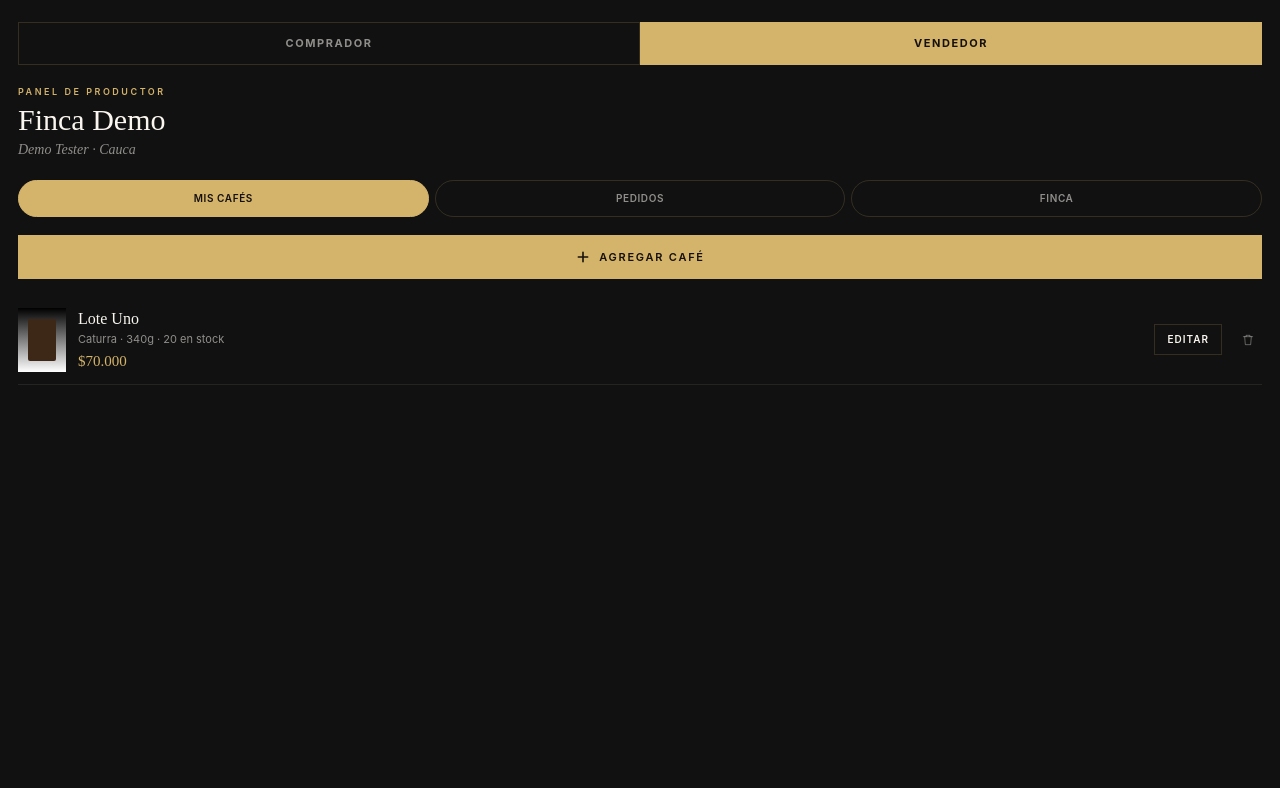
Test case: ProfileScreen › la pestaña Pedidos muestra el resumen de ventas
The width and height of the screenshot is (1280, 788).
Click the button "Pedidos".
click(640, 198)  # box left=435, top=180, right=845, bottom=216
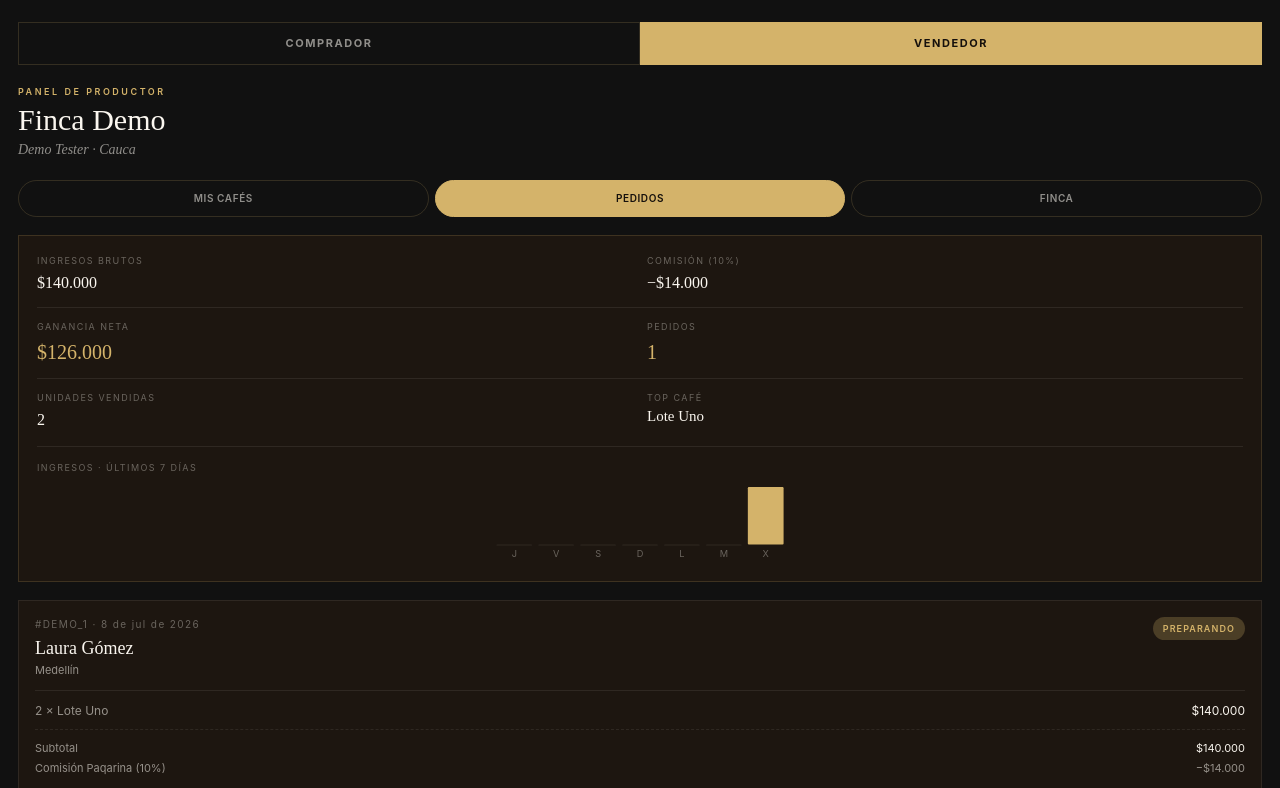
expect the text "Ingresos brutos" is shown: met, box left=37, top=254, right=143, bottom=266
expect the text "Laura Gómez" is shown: met, box left=35, top=638, right=134, bottom=658
